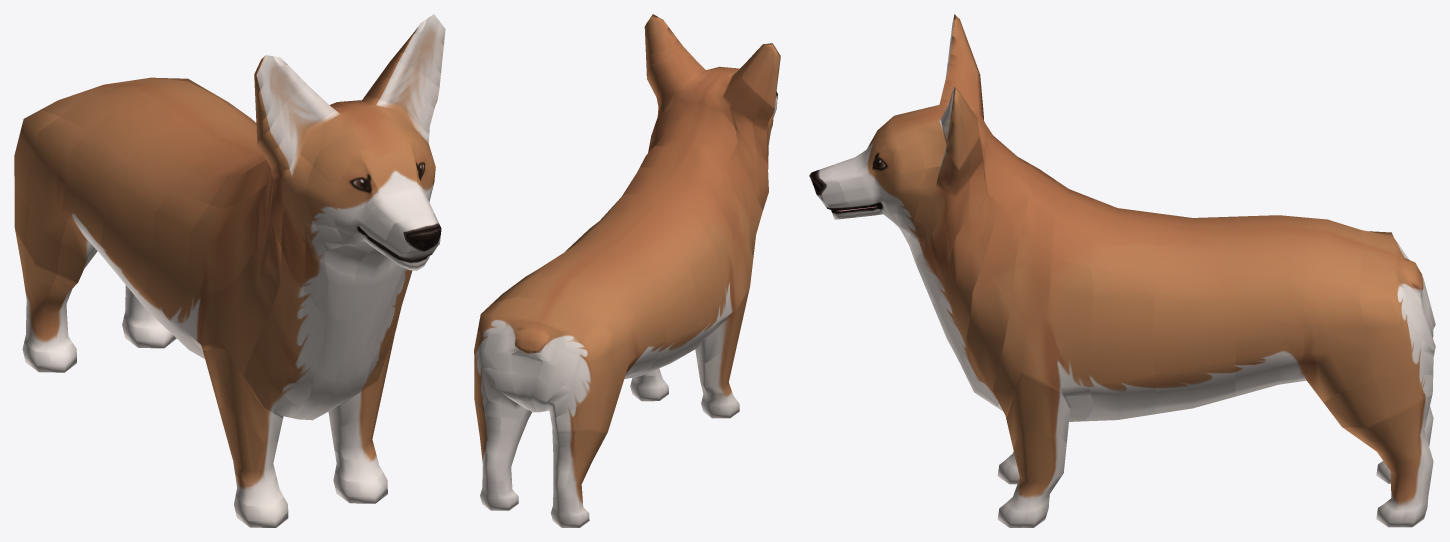
The model's file is Sized_Doggo.fbx.
3 renders of one model, left to right at view 1: azimuth 30°, elevation 25°; view 2: azimuth 150°, elevation 25°; view 3: azimuth 270°, elevation 25°, orthographic. The views are drawn at different scales.
Parts seen in each view (by area): view 1: Doggo_Model; view 2: Doggo_Model; view 3: Doggo_Model.
Boxes of the visible parts, box(x1,y1,x2,y2) form: Doggo_Model: box(14, 14, 445, 527); Doggo_Model: box(474, 14, 780, 527); Doggo_Model: box(809, 14, 1435, 527).
Size of the model in its own units: 92.58 by 234 by 297.
